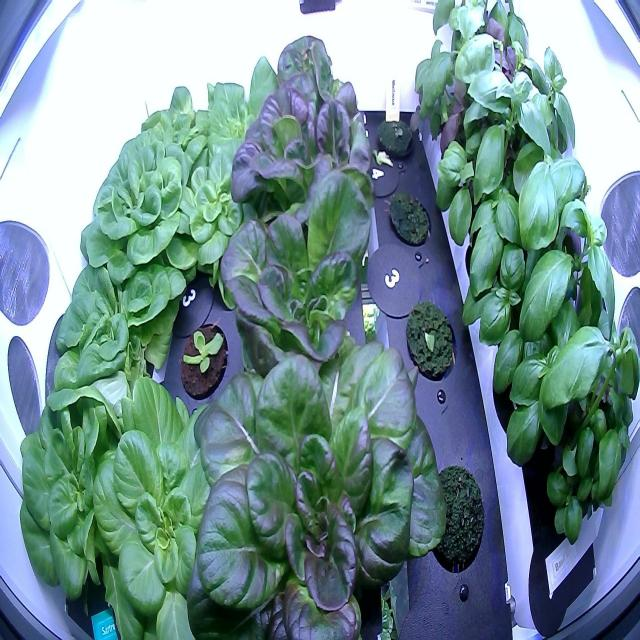Ready: (228, 70, 386, 265), (4, 392, 140, 617), (78, 119, 206, 318), (40, 243, 176, 427), (250, 21, 372, 166), (118, 80, 224, 206)
germination: (373, 110, 420, 169)
pod: (419, 452, 487, 580), (400, 292, 460, 384), (384, 182, 436, 254)
young: (179, 311, 454, 640), (198, 160, 394, 404), (90, 368, 253, 638), (165, 142, 275, 312), (184, 62, 284, 186), (176, 319, 232, 399)
